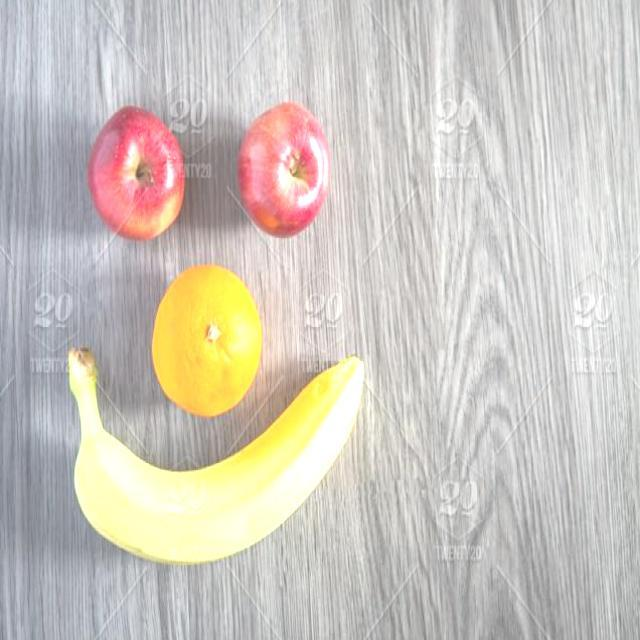apple: (80, 98, 202, 243), (224, 93, 336, 242)
banana: (58, 333, 370, 569)
orange: (130, 257, 279, 420)
